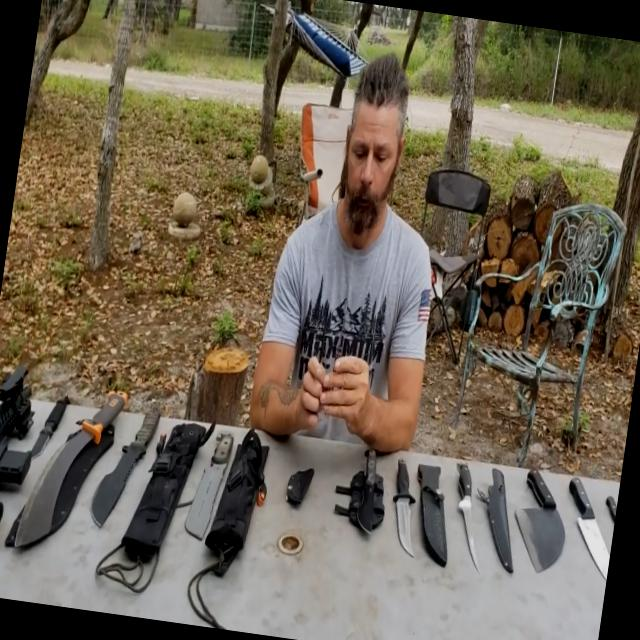knife: (2, 362, 130, 542), (81, 396, 166, 534), (172, 427, 243, 552), (439, 452, 502, 573), (556, 466, 620, 584), (380, 433, 436, 565), (22, 367, 84, 482), (348, 430, 393, 542), (305, 293, 338, 395), (328, 294, 360, 394)
long weapon: (0, 336, 57, 575)
